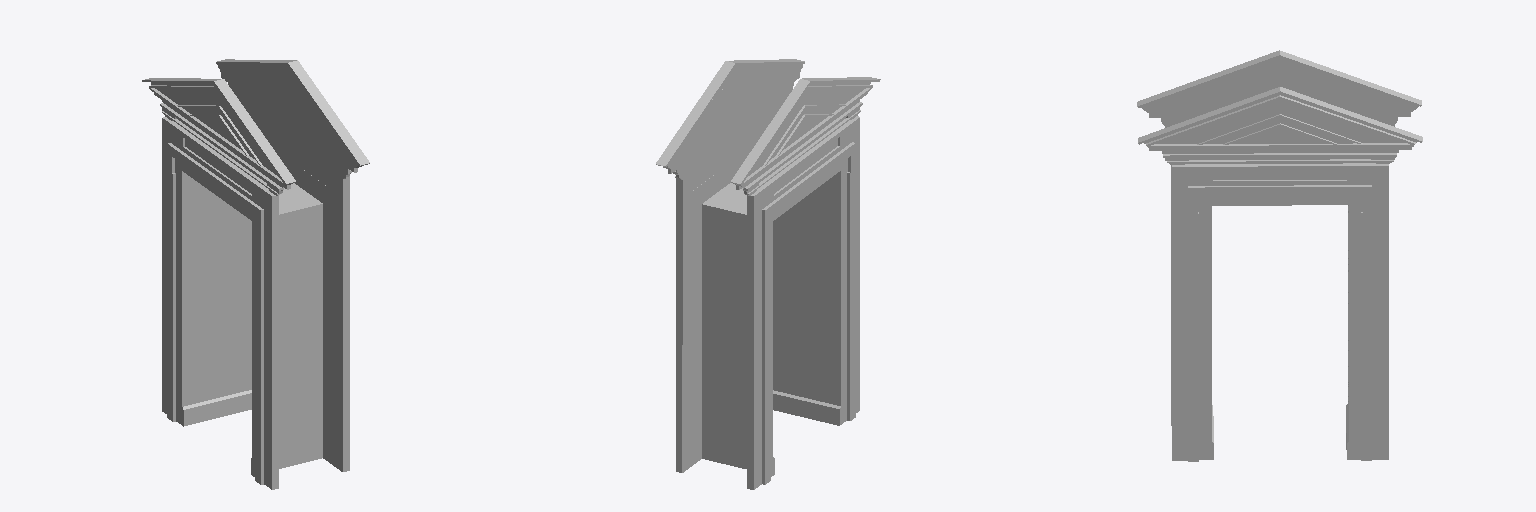
Rendered from door4.obj.
The picture shows the model from 3 angles: view 1: azimuth 30°, elevation 25°; view 2: azimuth 150°, elevation 25°; view 3: azimuth 270°, elevation 25°; orthographic projection.
Parts seen in each view (by area): view 1: door5:group door5:pasted__group179 door5:pasted__pasted__Mesh do; view 2: door5:group door5:pasted__group179 door5:pasted__pasted__Mesh do; view 3: door5:group door5:pasted__group179 door5:pasted__pasted__Mesh do.
Boxes of the visible parts, x1=… form: door5:group door5:pasted__group179 door5:pasted__pasted__Mesh do: x1=142, y1=59, x2=369, y2=489; door5:group door5:pasted__group179 door5:pasted__pasted__Mesh do: x1=656, y1=59, x2=880, y2=489; door5:group door5:pasted__group179 door5:pasted__pasted__Mesh do: x1=1137, y1=50, x2=1422, y2=461.
Size of the model in its own units: 2.32 by 9.45 by 6.61.